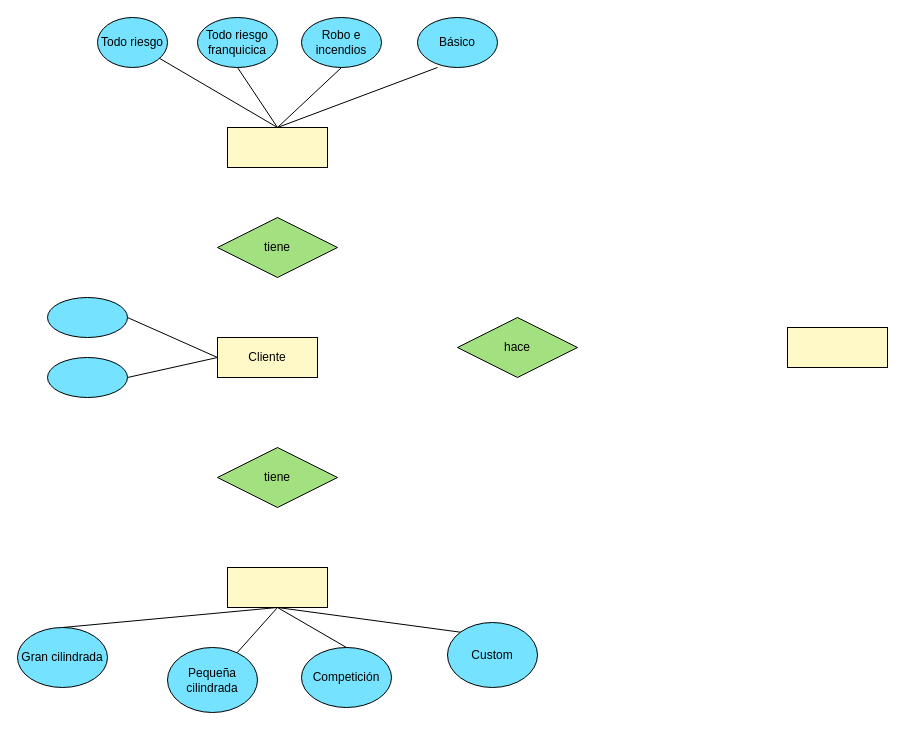
This 905x730 diagram has some shape labels left out. The shapes that lost their labels are listed below. From the top down, each one's centre as x and y in pixels, then its label:
At (277,147): "TipoSeguros".
At (87,317): "Edad".
At (837,347): "Seguro".
At (87,377): "Años sin partes".
At (277,587): "Motos".
